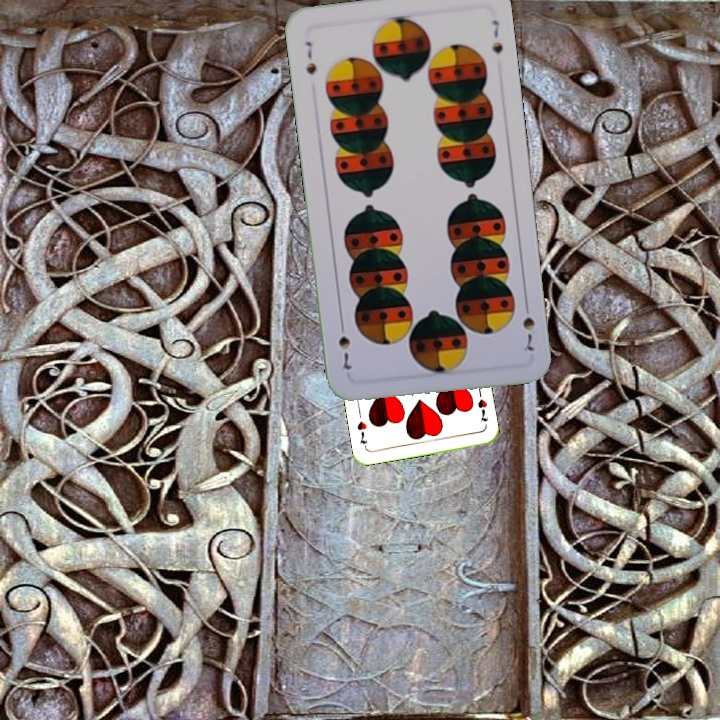H7: (473, 395, 491, 424)
S7: (518, 297, 538, 354), (301, 37, 319, 77)
